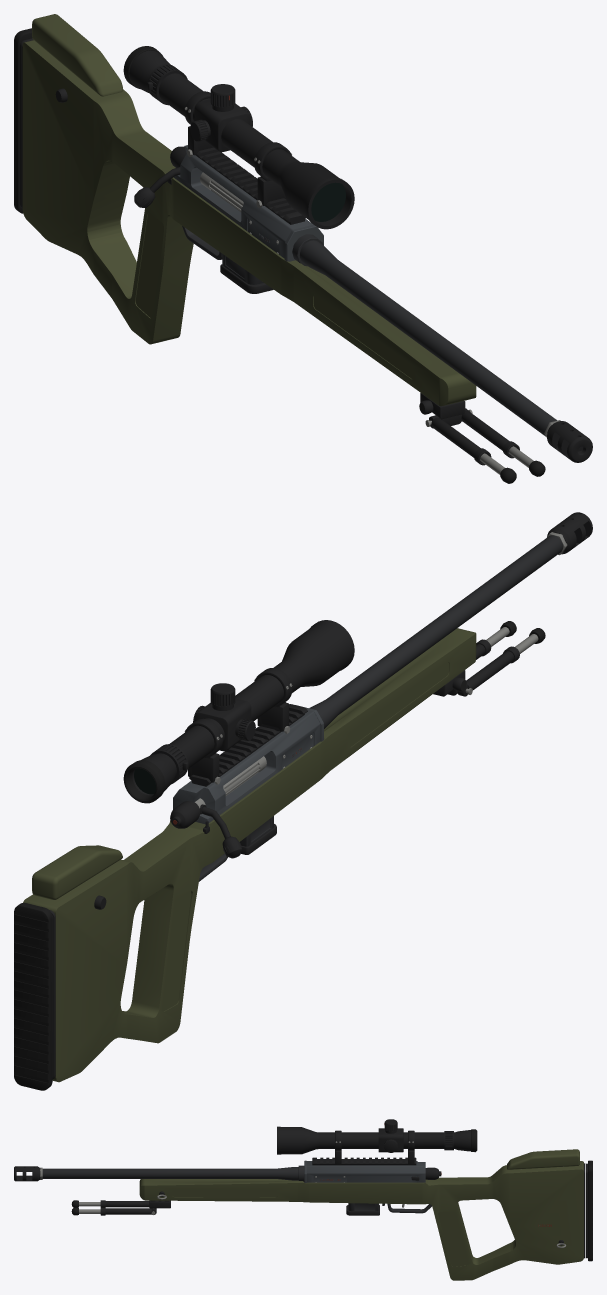
Rendered from Trailmark308.fbx.
3 views of the same model, one above another, from view 1: azimuth 30°, elevation 25°; view 2: azimuth 150°, elevation 25°; view 3: azimuth 270°, elevation 25° (orthographic). The views are drawn at different scales.
Parts seen in each view (by area): view 1: RBX_Body_PolyOlive, RBX_Body_Blackened, RBX_Body_DarkSteel, RBX_Body_PaintSlate, RBX_TM308_CheekRiser_PolyOlive, RBX_Body_Rubber, RBX_Body_Lens, RBX_Body_PolyBlack, RBX_TM308_BipodLeg_R_Blackened, RBX_TM308_BipodLeg_L_Blackened, RBX_TM308_Scope_PowerRing_Blackened; view 2: RBX_Body_PolyOlive, RBX_Body_Blackened, RBX_Body_Rubber, RBX_Body_DarkSteel, RBX_Body_PaintSlate, RBX_TM308_CheekRiser_PolyOlive, RBX_TM308_BipodLeg_R_Blackened, RBX_Body_PolyBlack; view 3: RBX_Body_PolyOlive, RBX_Body_Blackened, RBX_Body_DarkSteel, RBX_Body_PaintSlate, RBX_TM308_CheekRiser_PolyOlive, RBX_Body_Rubber, RBX_TM308_BipodLeg_L_Blackened, RBX_Body_PolyBlack, RBX_TM308_BipodLeg_R_Blackened, RBX_TM308_Magazine_DarkSteel.
Boxes of the visible parts, box(x1,y1,x2,y2) form: RBX_Body_PolyOlive: box(22, 40, 476, 406); RBX_Body_Blackened: box(55, 50, 592, 462); RBX_Body_DarkSteel: box(182, 226, 557, 436); RBX_Body_PaintSlate: box(173, 145, 323, 261); RBX_TM308_CheekRiser_PolyOlive: box(32, 14, 122, 96); RBX_Body_Rubber: box(14, 28, 163, 213); RBX_Body_Lens: box(311, 182, 345, 221); RBX_Body_PolyBlack: box(19, 38, 433, 414); RBX_TM308_BipodLeg_R_Blackened: box(429, 415, 491, 465); RBX_TM308_BipodLeg_L_Blackened: box(461, 408, 519, 458); RBX_TM308_Scope_PowerRing_Blackened: box(147, 64, 187, 105); RBX_Body_PolyOlive: box(23, 628, 476, 1082); RBX_Body_Blackened: box(94, 512, 592, 909); RBX_Body_Rubber: box(14, 760, 165, 1090); RBX_Body_DarkSteel: box(199, 535, 563, 881); RBX_Body_PaintSlate: box(173, 705, 323, 824); RBX_TM308_CheekRiser_PolyOlive: box(32, 845, 122, 899); RBX_TM308_BipodLeg_R_Blackened: box(457, 646, 519, 696); RBX_Body_PolyBlack: box(49, 677, 466, 1079); RBX_Body_PolyOlive: box(139, 1161, 583, 1280); RBX_Body_Blackened: box(14, 1119, 563, 1245); RBX_Body_DarkSteel: box(42, 1165, 431, 1213); RBX_Body_PaintSlate: box(304, 1160, 425, 1182); RBX_TM308_CheekRiser_PolyOlive: box(507, 1149, 579, 1169); RBX_Body_Rubber: box(471, 1129, 592, 1261); RBX_TM308_BipodLeg_L_Blackened: box(100, 1207, 156, 1215); RBX_Body_PolyBlack: box(584, 1163, 587, 1258); RBX_TM308_BipodLeg_R_Blackened: box(100, 1200, 149, 1207); RBX_TM308_Magazine_DarkSteel: box(348, 1203, 378, 1211).
Size of the model in its own units: 0.4903 by 1.51 by 5.1.
